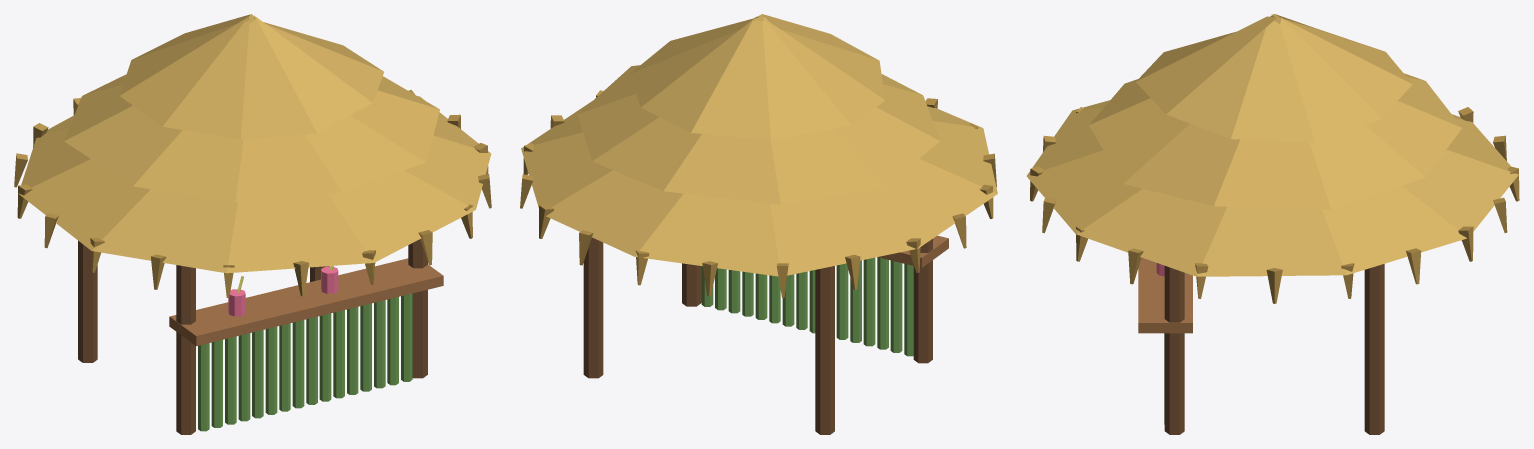
Rendered from TikiHut.fbx.
3 renders of one model, left to right at view 1: azimuth 30°, elevation 25°; view 2: azimuth 150°, elevation 25°; view 3: azimuth 270°, elevation 25°, orthographic.
Visible parts, largest first — view 1: Roof, Counter, Top, Posts, Fringe, Cups; view 2: Roof, Counter, Posts, Fringe, Top; view 3: Roof, Posts, Fringe, Top.
Part boxes in pixels (left/top/right/bottom): Roof: left=18, top=14, right=491, bottom=273; Counter: left=198, top=293, right=412, bottom=431; Top: left=169, top=258, right=443, bottom=346; Posts: left=78, top=239, right=427, bottom=434; Fringe: left=14, top=89, right=491, bottom=297; Cups: left=228, top=266, right=338, bottom=316; Roof: left=521, top=14, right=997, bottom=276; Counter: left=701, top=257, right=913, bottom=356; Posts: left=583, top=237, right=932, bottom=434; Fringe: left=520, top=90, right=996, bottom=297; Top: left=878, top=235, right=948, bottom=267; Roof: left=1026, top=14, right=1518, bottom=276; Posts: left=1164, top=264, right=1384, bottom=434; Fringe: left=1030, top=107, right=1519, bottom=303; Top: left=1138, top=257, right=1192, bottom=333.
Bounding box in the file's own units: 10.78 × 8.69 × 10.85.
